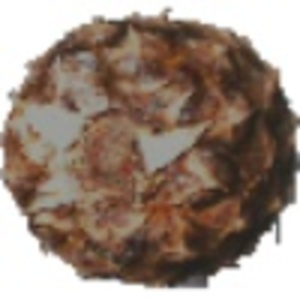abacaxi: (10, 12, 294, 284)
